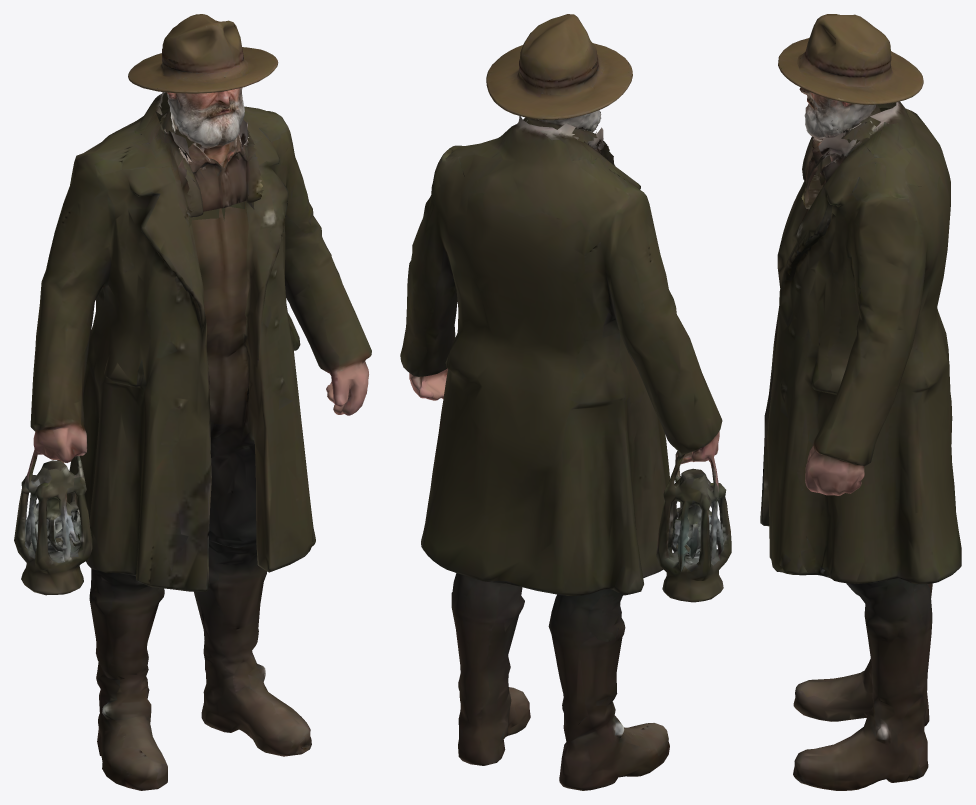
The model's file is ranger.glb.
3 renders of one model, left to right at view 1: azimuth 30°, elevation 25°; view 2: azimuth 150°, elevation 25°; view 3: azimuth 270°, elevation 25°, orthographic. The views are drawn at different scales.
Parts seen in each view (by area): view 1: ranger.raw; view 2: ranger.raw; view 3: ranger.raw.
Boxes of the visible parts, box(x1,y1,x2,y2) form: ranger.raw: box(14, 14, 371, 790); ranger.raw: box(400, 14, 731, 790); ranger.raw: box(760, 14, 961, 790).
Bounding box in the file's own units: 0.8416 × 1.8 × 0.4499.
Materials: 1 (1 with a texture image).
